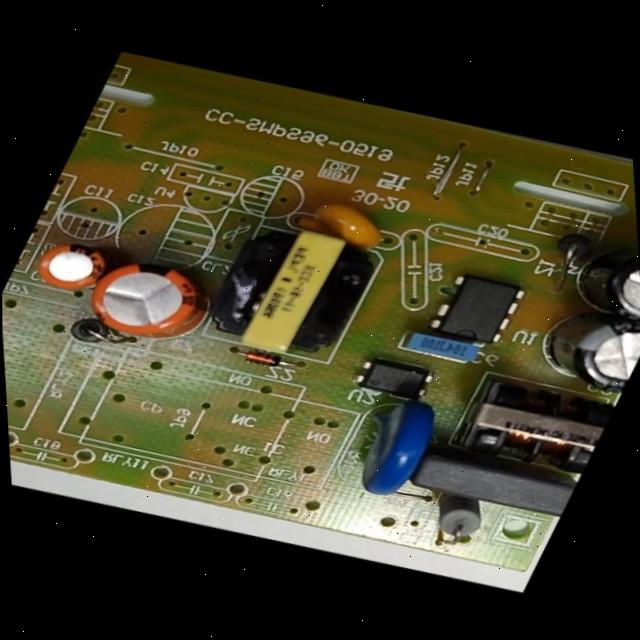Cap1: (64, 236, 235, 359)
Cap2: (9, 223, 129, 306)
Cap3: (511, 293, 640, 409)
Cap4: (536, 223, 640, 339)
MOSFET: (413, 260, 538, 361)
Mov: (312, 383, 465, 512)
Resistor: (405, 479, 502, 553)
Transformer: (180, 201, 400, 379), (439, 362, 624, 486)
